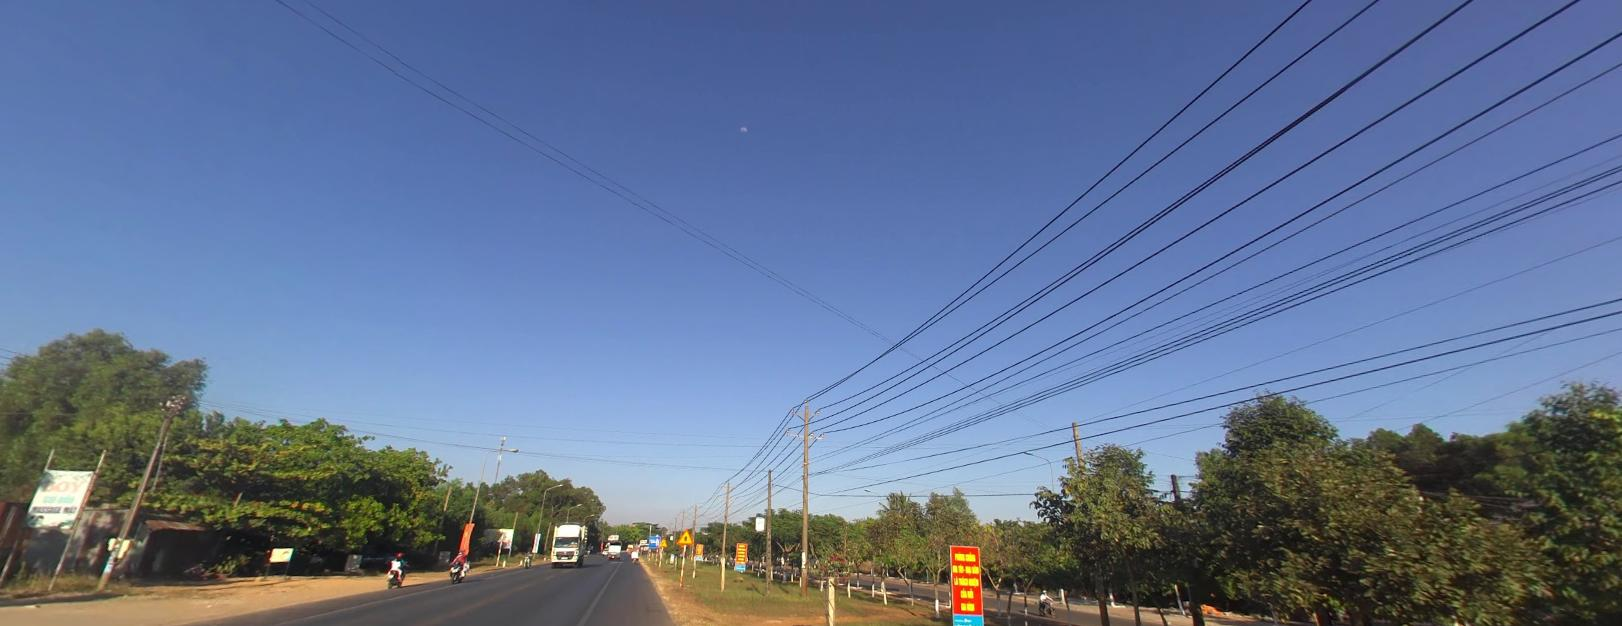Nguy hiem: (676, 527, 694, 544), (659, 537, 668, 547)
